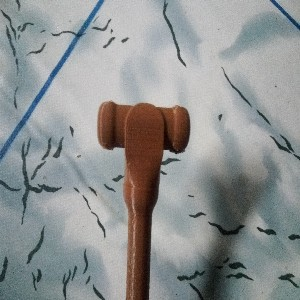palu: (97, 99, 192, 300)
